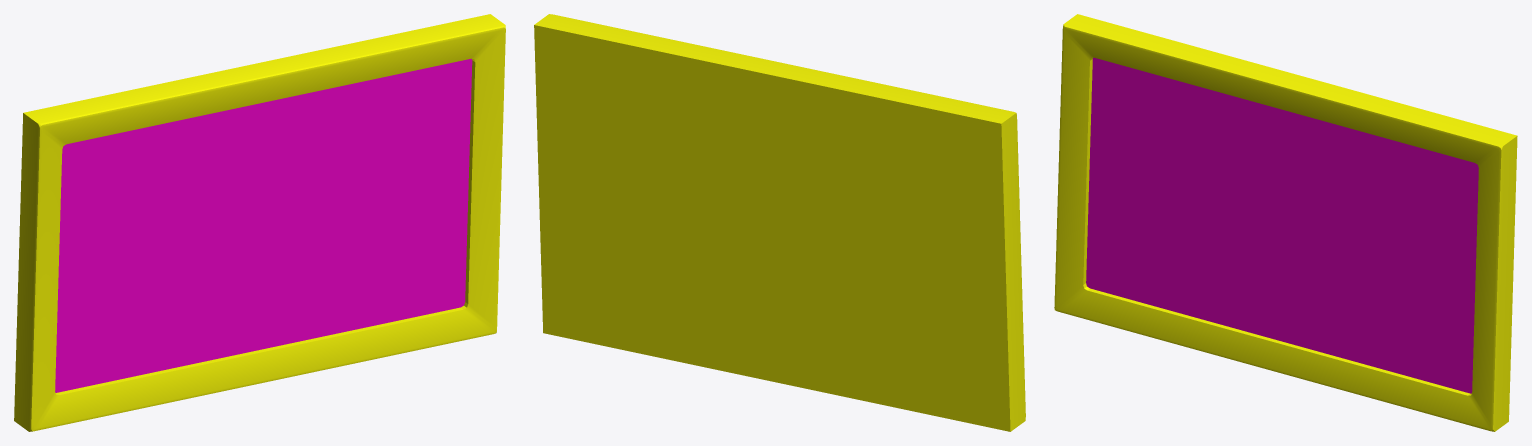
The model's file is WallFrame.fbx.
The picture shows the model from 3 angles, left to right: view 1: azimuth 30°, elevation 25°; view 2: azimuth 150°, elevation 25°; view 3: azimuth 330°, elevation 25°; orthographic projection. The views are drawn at different scales.
Visible parts, largest first — view 1: Image, Certificate; view 2: Certificate; view 3: Image, Certificate.
Part boxes in pixels (x1=…): Image: x1=55, y1=58, x2=472, y2=392; Certificate: x1=14, y1=14, x2=505, y2=431; Certificate: x1=534, y1=14, x2=1025, y2=431; Image: x1=1086, y1=57, x2=1478, y2=393; Certificate: x1=1054, y1=14, x2=1517, y2=431.
Bounding box in the file's own units: 29.89 × 19.25 × 1.79.
